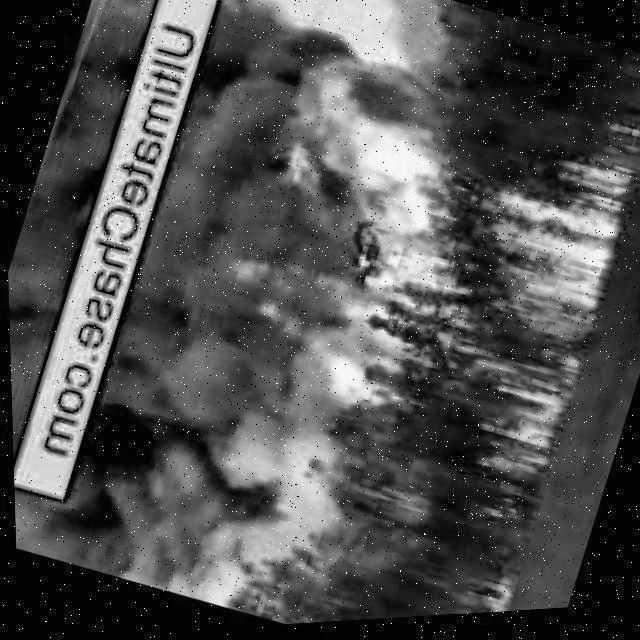Fire: (176, 34, 640, 537), (451, 580, 518, 620)
Smoke: (29, 0, 334, 589), (0, 0, 178, 539)
